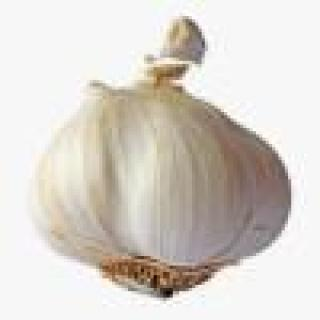Bawang Putih: (27, 20, 296, 299)
